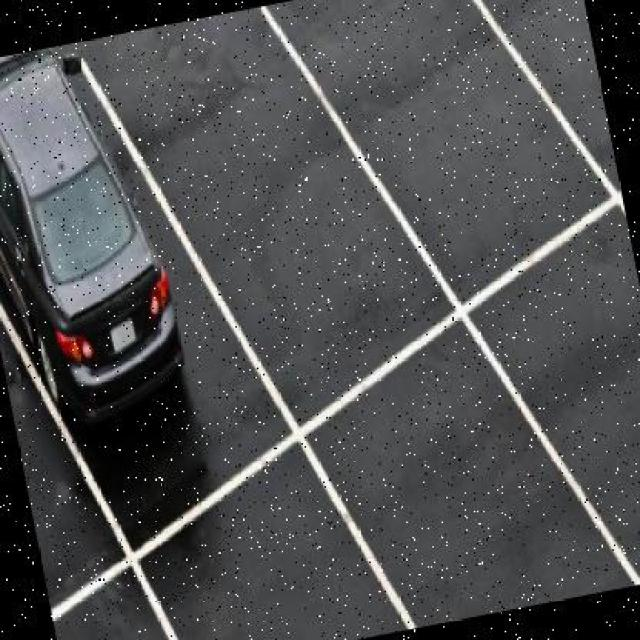Car: (1, 44, 169, 415)
Empty: (169, 47, 355, 335), (363, 6, 541, 293), (168, 485, 331, 640), (389, 440, 536, 609), (559, 290, 640, 492), (514, 1, 594, 107)
